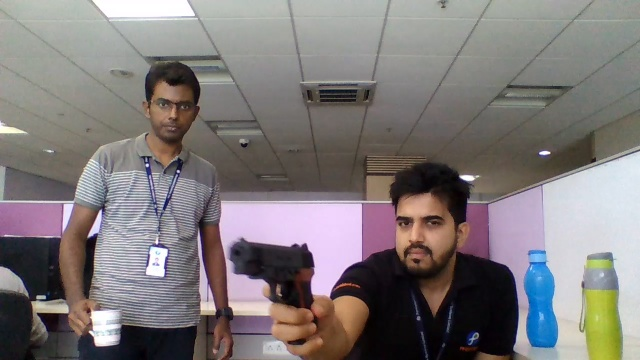gun: (228, 236, 316, 307)
